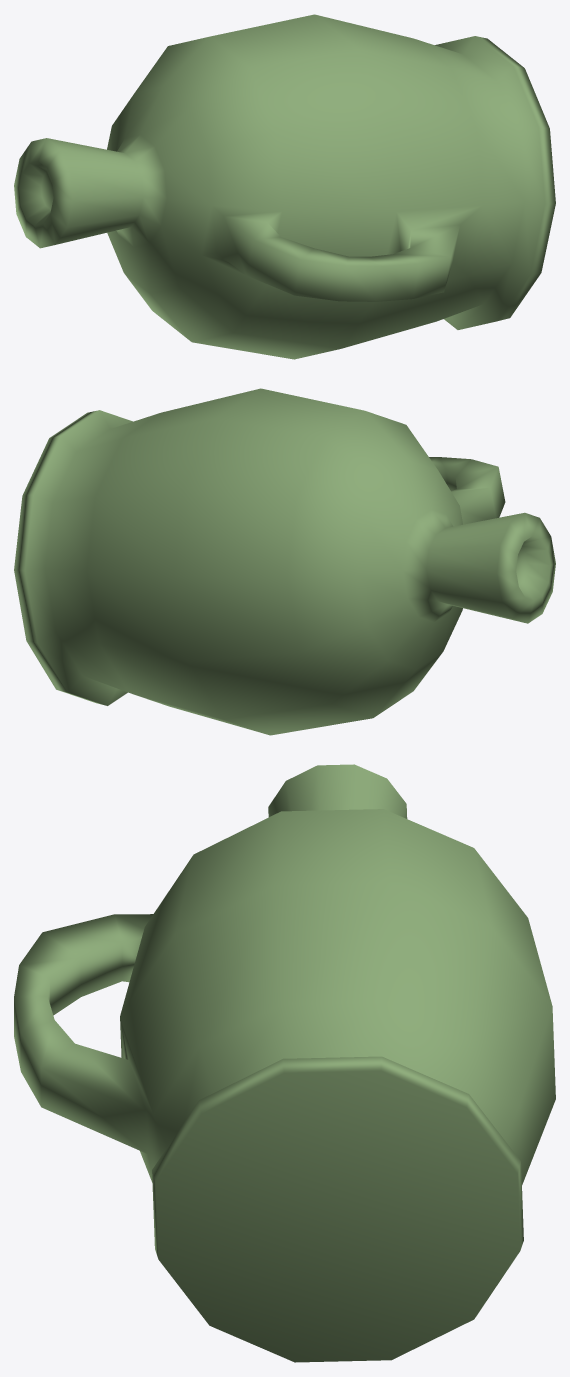
Rendered from Jar_Break_08B_Lod1.fbx.
The picture shows the model from 3 angles, top to bottom: view 1: azimuth 30°, elevation 25°; view 2: azimuth 150°, elevation 25°; view 3: azimuth 270°, elevation 25°; orthographic projection. The views are drawn at different scales.
Visible parts, largest first — view 1: Jar_Break_08B_Lod1; view 2: Jar_Break_08B_Lod1; view 3: Jar_Break_08B_Lod1.
Boxes of the visible parts, x1,y1,x2,y2 form: Jar_Break_08B_Lod1: (14, 14, 555, 359); Jar_Break_08B_Lod1: (14, 388, 555, 735); Jar_Break_08B_Lod1: (14, 764, 555, 1362).
Size of the model in its own units: 38.65 by 24.99 by 29.82.
